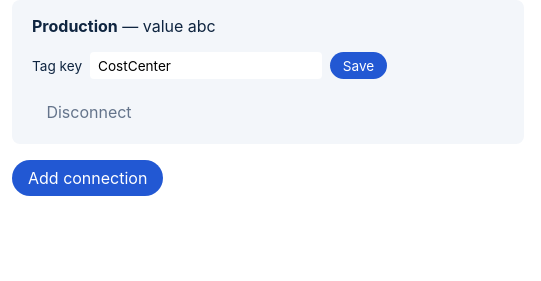
Test: ConnectionsPanel › editing the tag key › surfaces an error when saving the tag key fails
Expected: the text "Production" is shown, [32,16,118,36]
Click the button "Save".
click(359, 66)  # box [330,52,387,79]
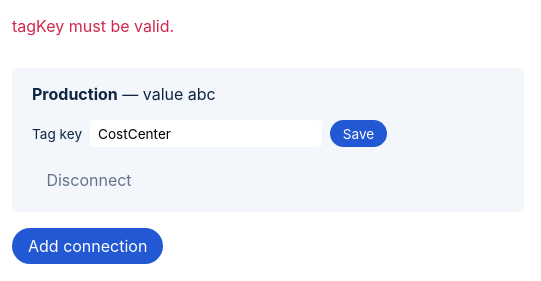
Expected: the message shows "tagKey must be valid", [12,16,174,36]
